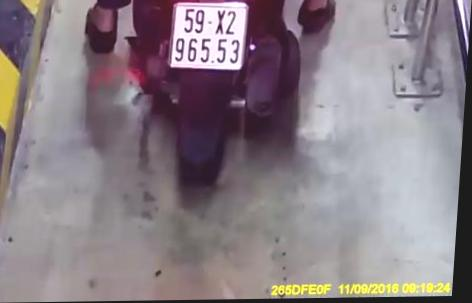License_Plate: (158, 0, 257, 82)
